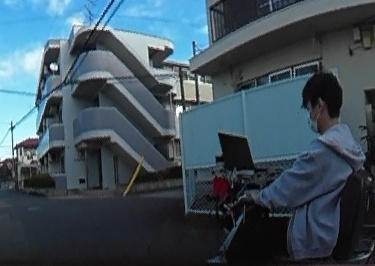person: (232, 73, 352, 266)
